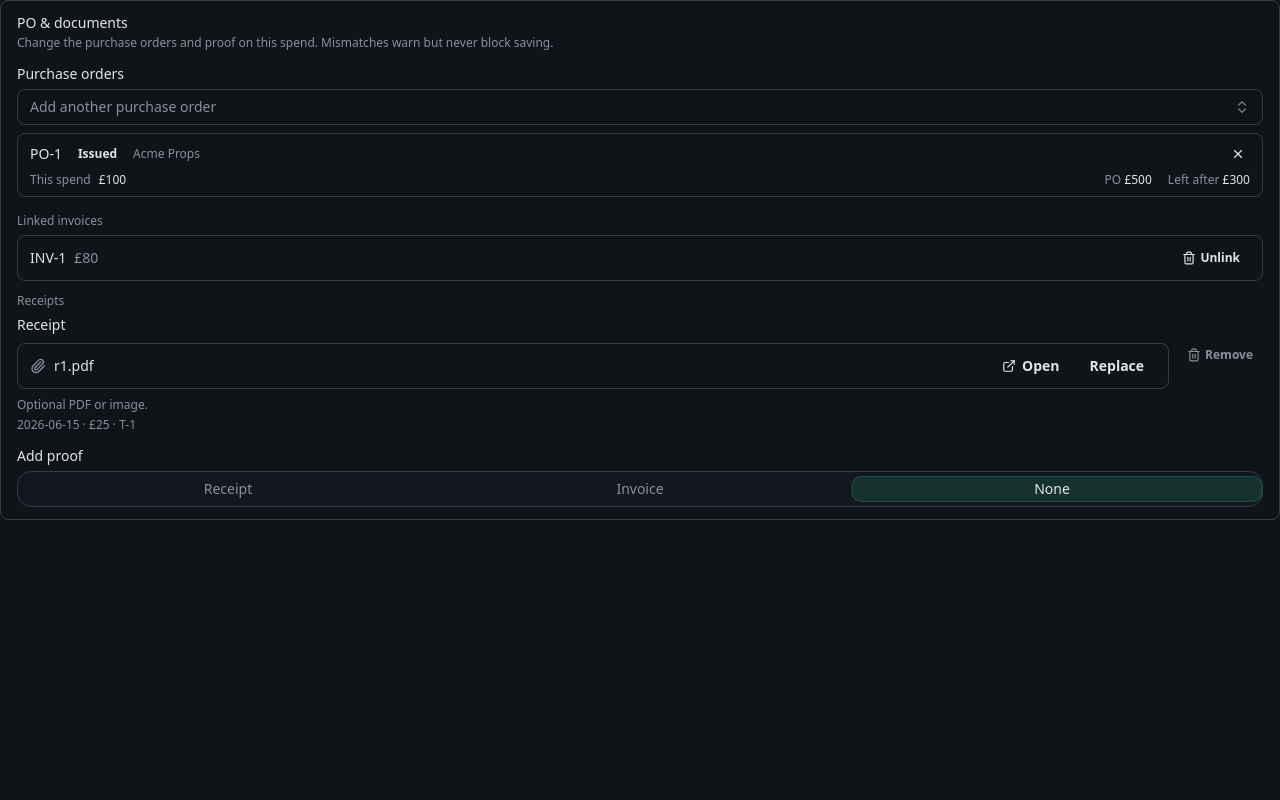
Test case: ExpenseDocumentMatch (edit mode) › excludes the expense's own links from committed and never offers other vendors
Expected: the text with test id "po-remaining-after-po-1" reads "£300", x1=1222 y1=171 x2=1250 y2=188
Click the dropdown named "Purchase orders" at [123, 106], box x1=17 y1=89 x2=1263 y2=125
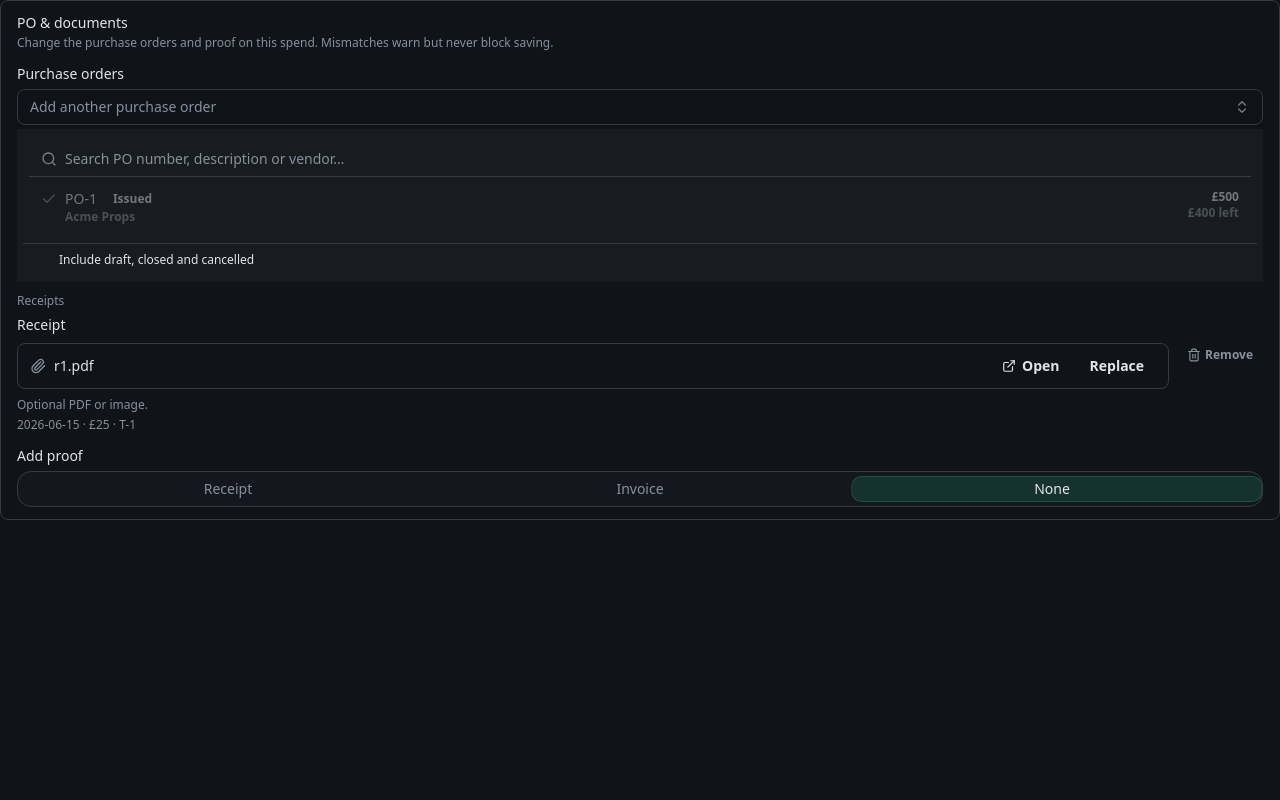
Expected: the list is shown, x1=29 y1=177 x2=1251 y2=237
